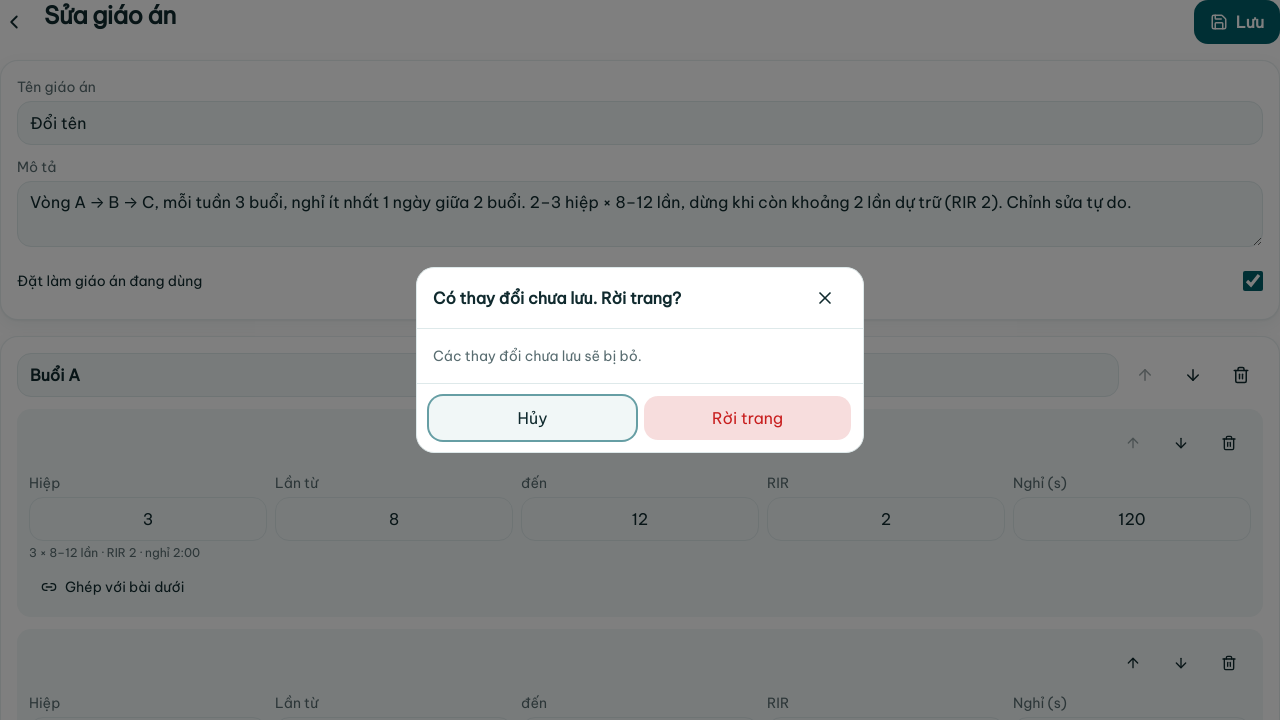
Test case: ProgramEditor — thay đổi chưa lưu › chọn Rời trang → quay về và xóa bản nháp
Earlier steps of the test are not shown.
Click the button "Rời trang".
click(748, 418)  # box 644,396 -> 851,440
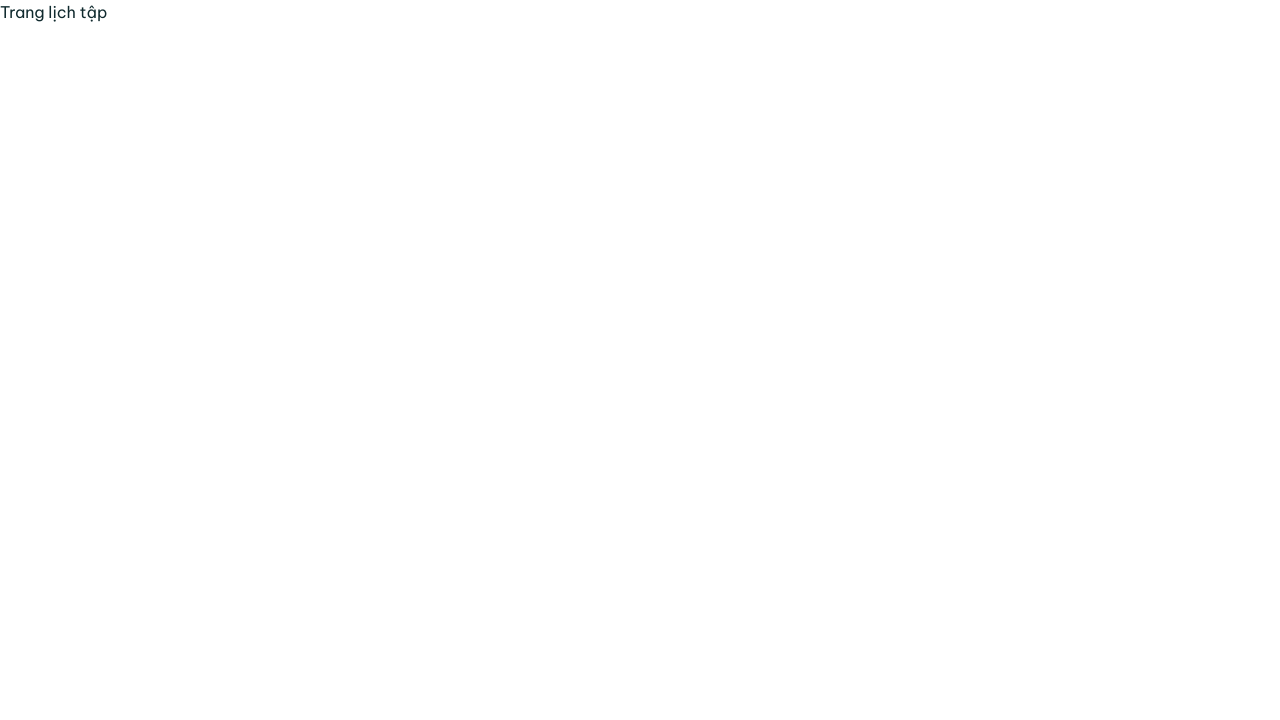
Expected: the heading "Trang lịch tập" is shown, 0,2 -> 107,22
